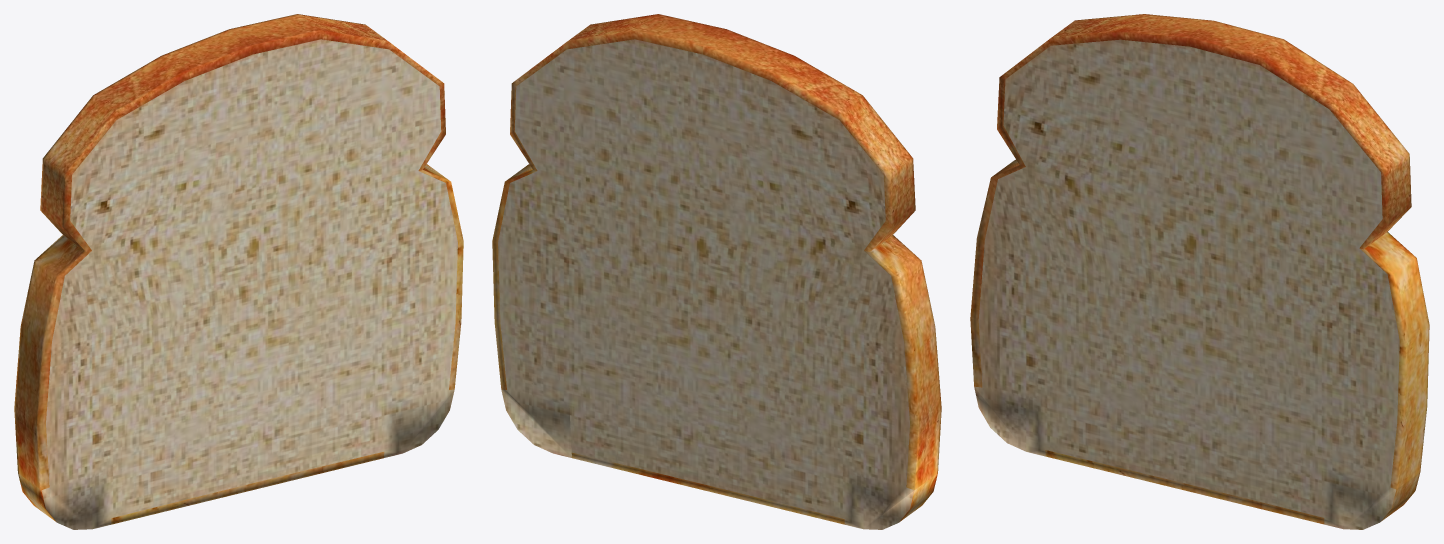
The model's file is bread slice.fbx.
The picture shows the model from 3 angles, left to right: view 1: azimuth 30°, elevation 25°; view 2: azimuth 150°, elevation 25°; view 3: azimuth 330°, elevation 25°; orthographic projection. The views are drawn at different scales.
Parts seen in each view (by area): view 1: Cube; view 2: Cube; view 3: Cube.
Boxes of the visible parts, left/top/right/bottom form: Cube: left=14, top=14, right=463, bottom=529; Cube: left=492, top=14, right=941, bottom=529; Cube: left=970, top=14, right=1429, bottom=529.
Bounding box in the file's own units: 102 × 102 × 9.79.
1 material, 1 textured.
